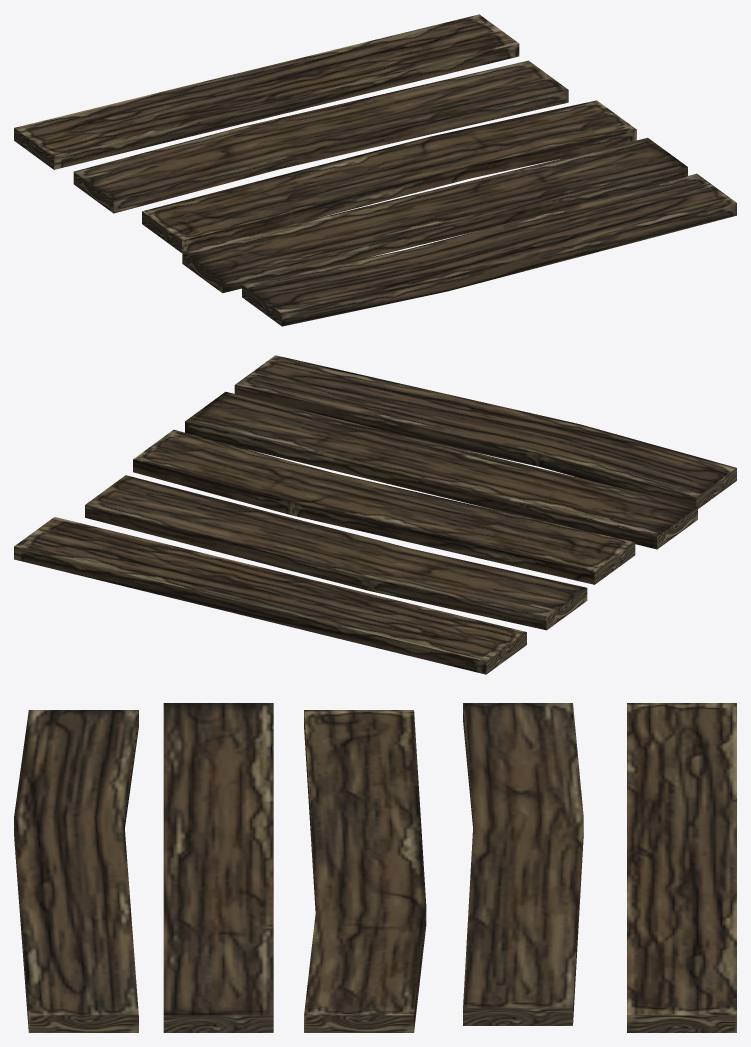
File: Deck_01.fbx
The picture shows the model from 3 angles, top to bottom: view 1: azimuth 30°, elevation 25°; view 2: azimuth 150°, elevation 25°; view 3: azimuth 270°, elevation 25°; orthographic projection. The views are drawn at different scales.
Visible parts, largest first — view 1: Deck_01; view 2: Deck_01; view 3: Deck_01.
Boxes of the visible parts, x1,y1,x2,y2 form: Deck_01: [14, 14, 736, 326]; Deck_01: [14, 355, 736, 674]; Deck_01: [14, 703, 736, 1032].
Bounding box in the file's own units: 3.88 × 0.1014 × 3.8.
